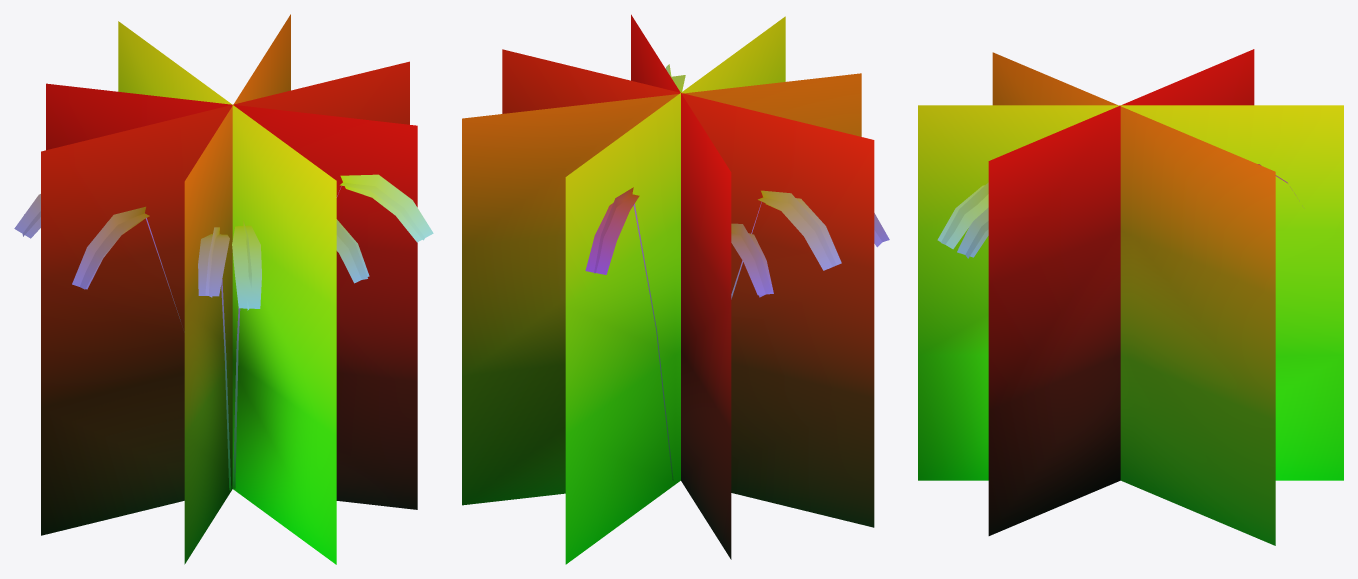
Rendered from Rice_Ripe_A.fbx.
3 renders of one model, left to right at view 1: azimuth 30°, elevation 25°; view 2: azimuth 150°, elevation 25°; view 3: azimuth 270°, elevation 25°, orthographic. The views are drawn at different scales.
Visible parts, largest first — view 1: Rice_Ripe_A_LOD0; view 2: Rice_Ripe_A_LOD0; view 3: Rice_Ripe_A_LOD0.
Boxes of the visible parts, x1=… form: Rice_Ripe_A_LOD0: x1=14, y1=14, x2=433, y2=564; Rice_Ripe_A_LOD0: x1=462, y1=14, x2=889, y2=564; Rice_Ripe_A_LOD0: x1=918, y1=49, x2=1343, y2=545.
Size of what is drawn, in the model's own units: 1.05 by 1.04 by 1.07.
